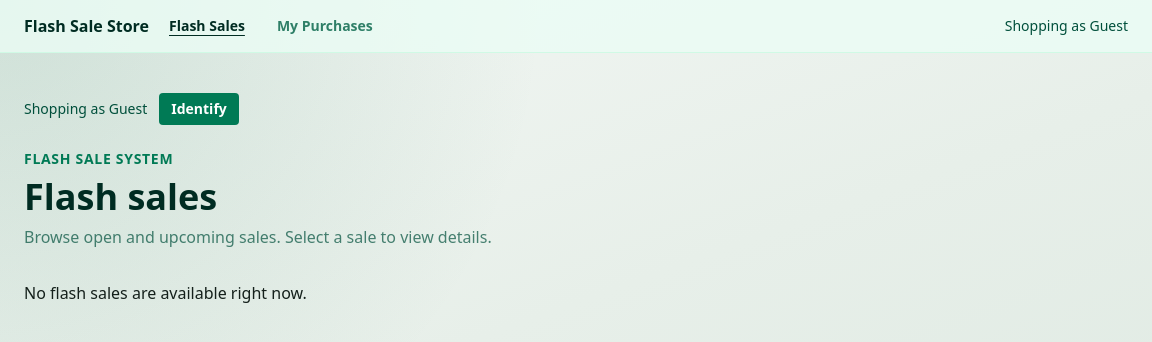
Test: AppRoutes › propagates identity set via the page IdentityStrip into the nav status live
Check: the element with test id "catalog-page" is shown, box left=24, top=93, right=492, bottom=304
Check: the text with test id "nav-identity-status" reads "Shopping as Guest", box left=1005, top=16, right=1128, bottom=35
Click the button with test id "identity-identify" at (199, 109), box left=159, top=93, right=239, bottom=125
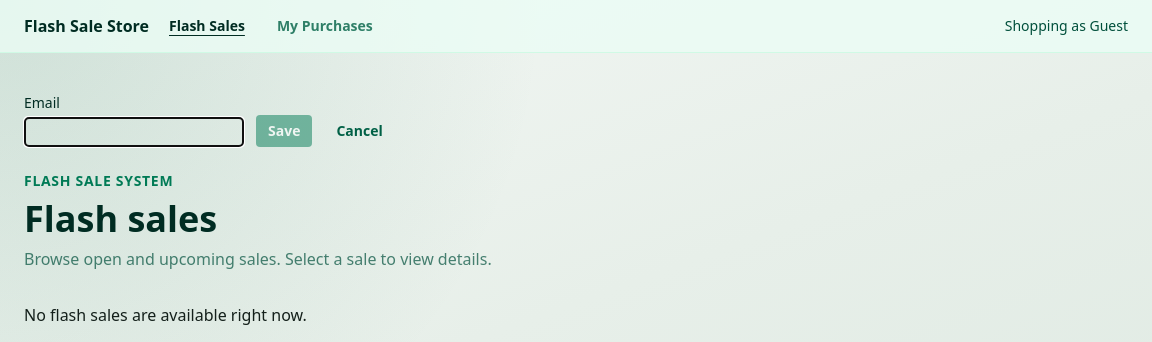
Type "buyer-live" into the field with test id "identity-email-input" at (134, 132), box left=24, top=117, right=244, bottom=147
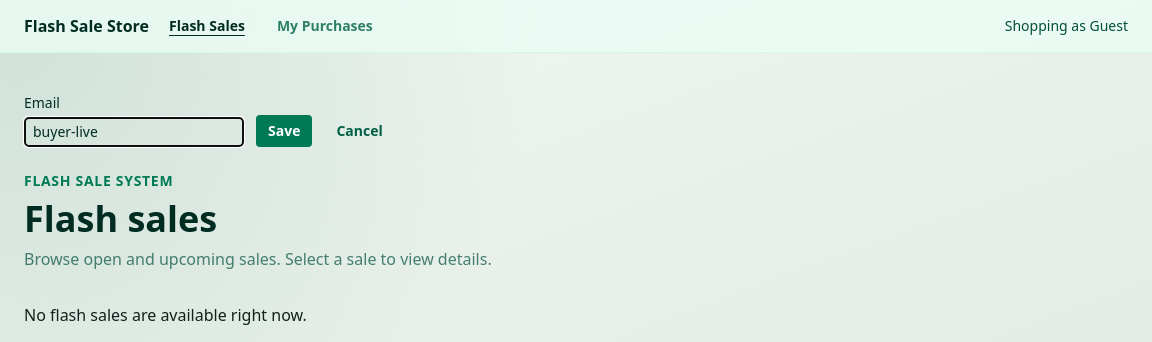
Click the button with test id "identity-save" at (284, 131), box left=256, top=115, right=312, bottom=147
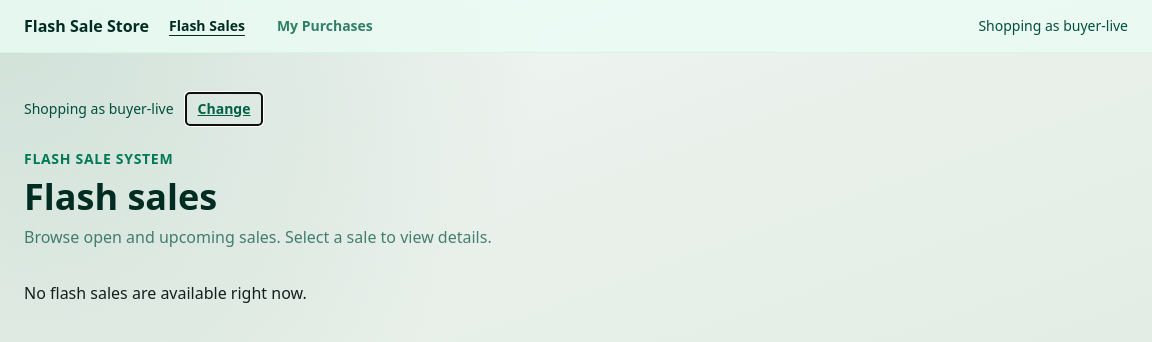
Check: the text with test id "nav-identity-status" reads "Shopping as buyer-live", box left=978, top=16, right=1128, bottom=35
